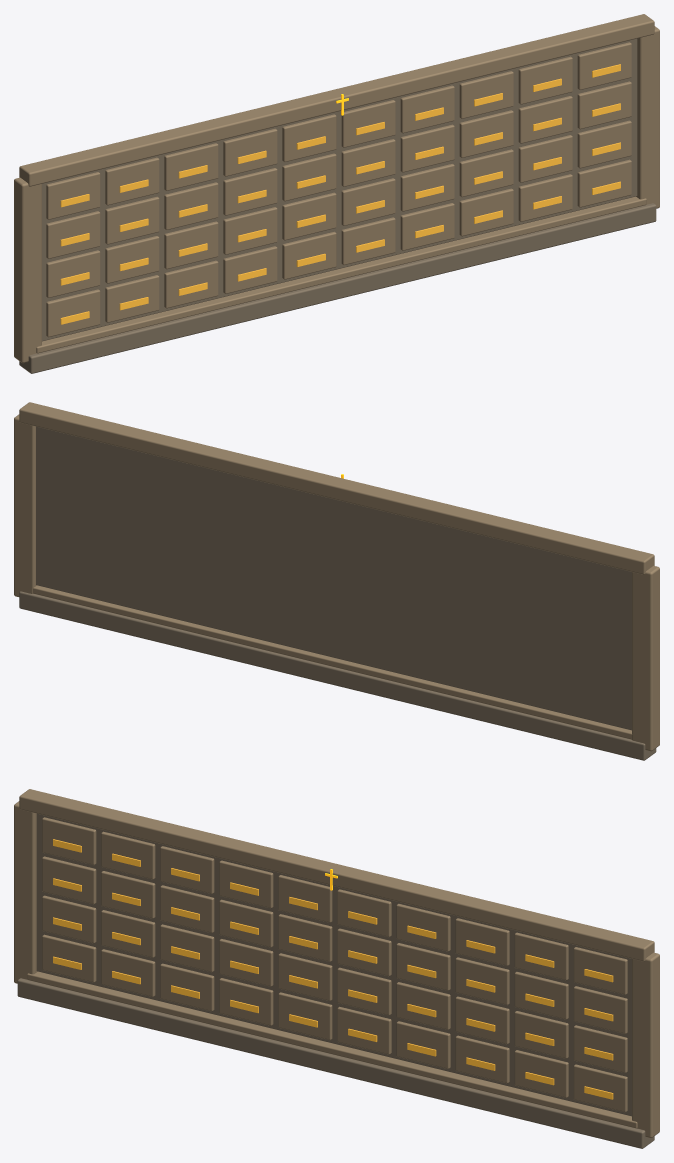
Rendered from columbarium.glb.
3 views of the same model, one above another, from view 1: azimuth 30°, elevation 25°; view 2: azimuth 150°, elevation 25°; view 3: azimuth 330°, elevation 25° (orthographic).
Parts seen in each view (by area): view 1: Niche (×40), Board, Cornice, Plinth, Pilaster (×2), PlinthCap; view 2: Board, Cornice, Plinth, Pilaster (×2), PlinthCap; view 3: Niche (×40), Board, Cornice, Plinth, Pilaster (×2), PlinthCap.
Part boxes in pixels (x1,y1,x2,y2): Niche (×40): (46, 42, 631, 337); Board: (42, 38, 637, 341); Cornice: (19, 14, 654, 186); Plinth: (19, 203, 656, 373); Pilaster (×2): (14, 26, 659, 363); PlinthCap: (36, 196, 646, 353); Board: (36, 426, 631, 730); Cornice: (19, 402, 654, 574); Plinth: (19, 591, 656, 760); Pilaster (×2): (14, 414, 659, 751); PlinthCap: (33, 585, 632, 739); Niche (×40): (42, 817, 627, 1112); Board: (36, 813, 631, 1116); Cornice: (19, 789, 654, 961); Plinth: (17, 978, 654, 1148); Pilaster (×2): (14, 801, 659, 1138); PlinthCap: (27, 971, 637, 1128).
Bounding box in the file's own units: 16.22 × 4.92 × 0.55.
